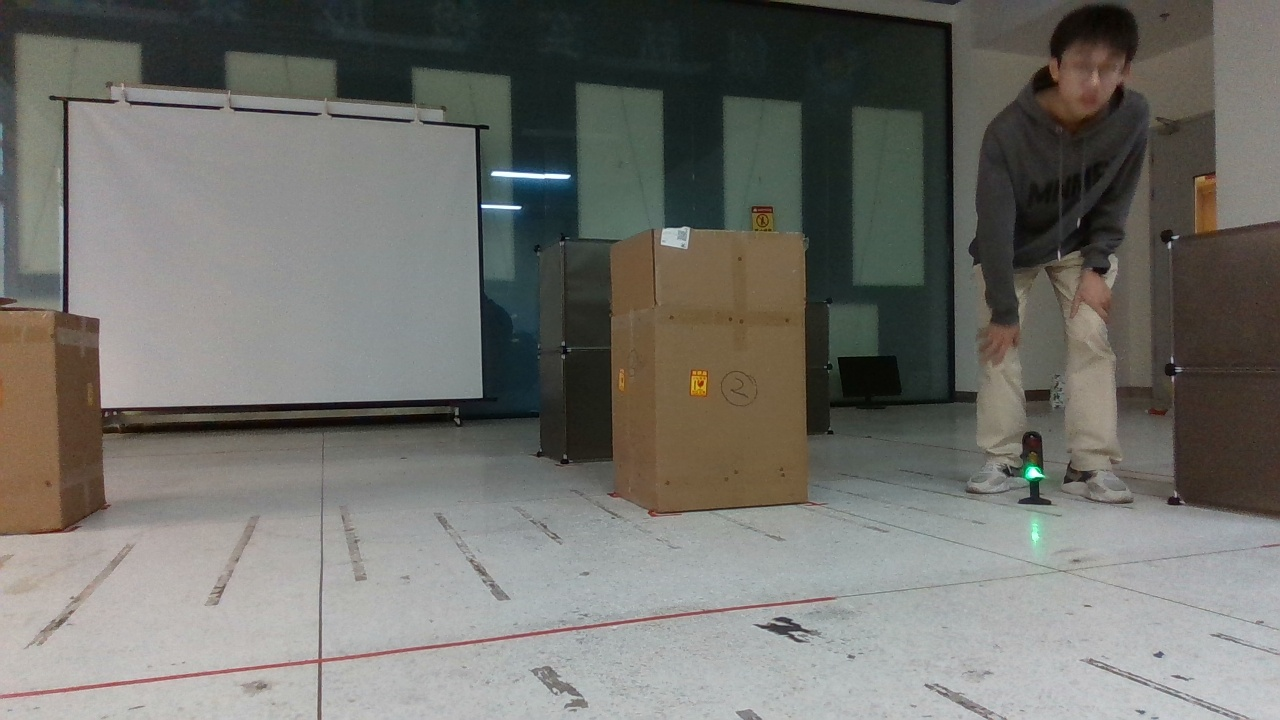green_light: (1011, 422, 1056, 511)
